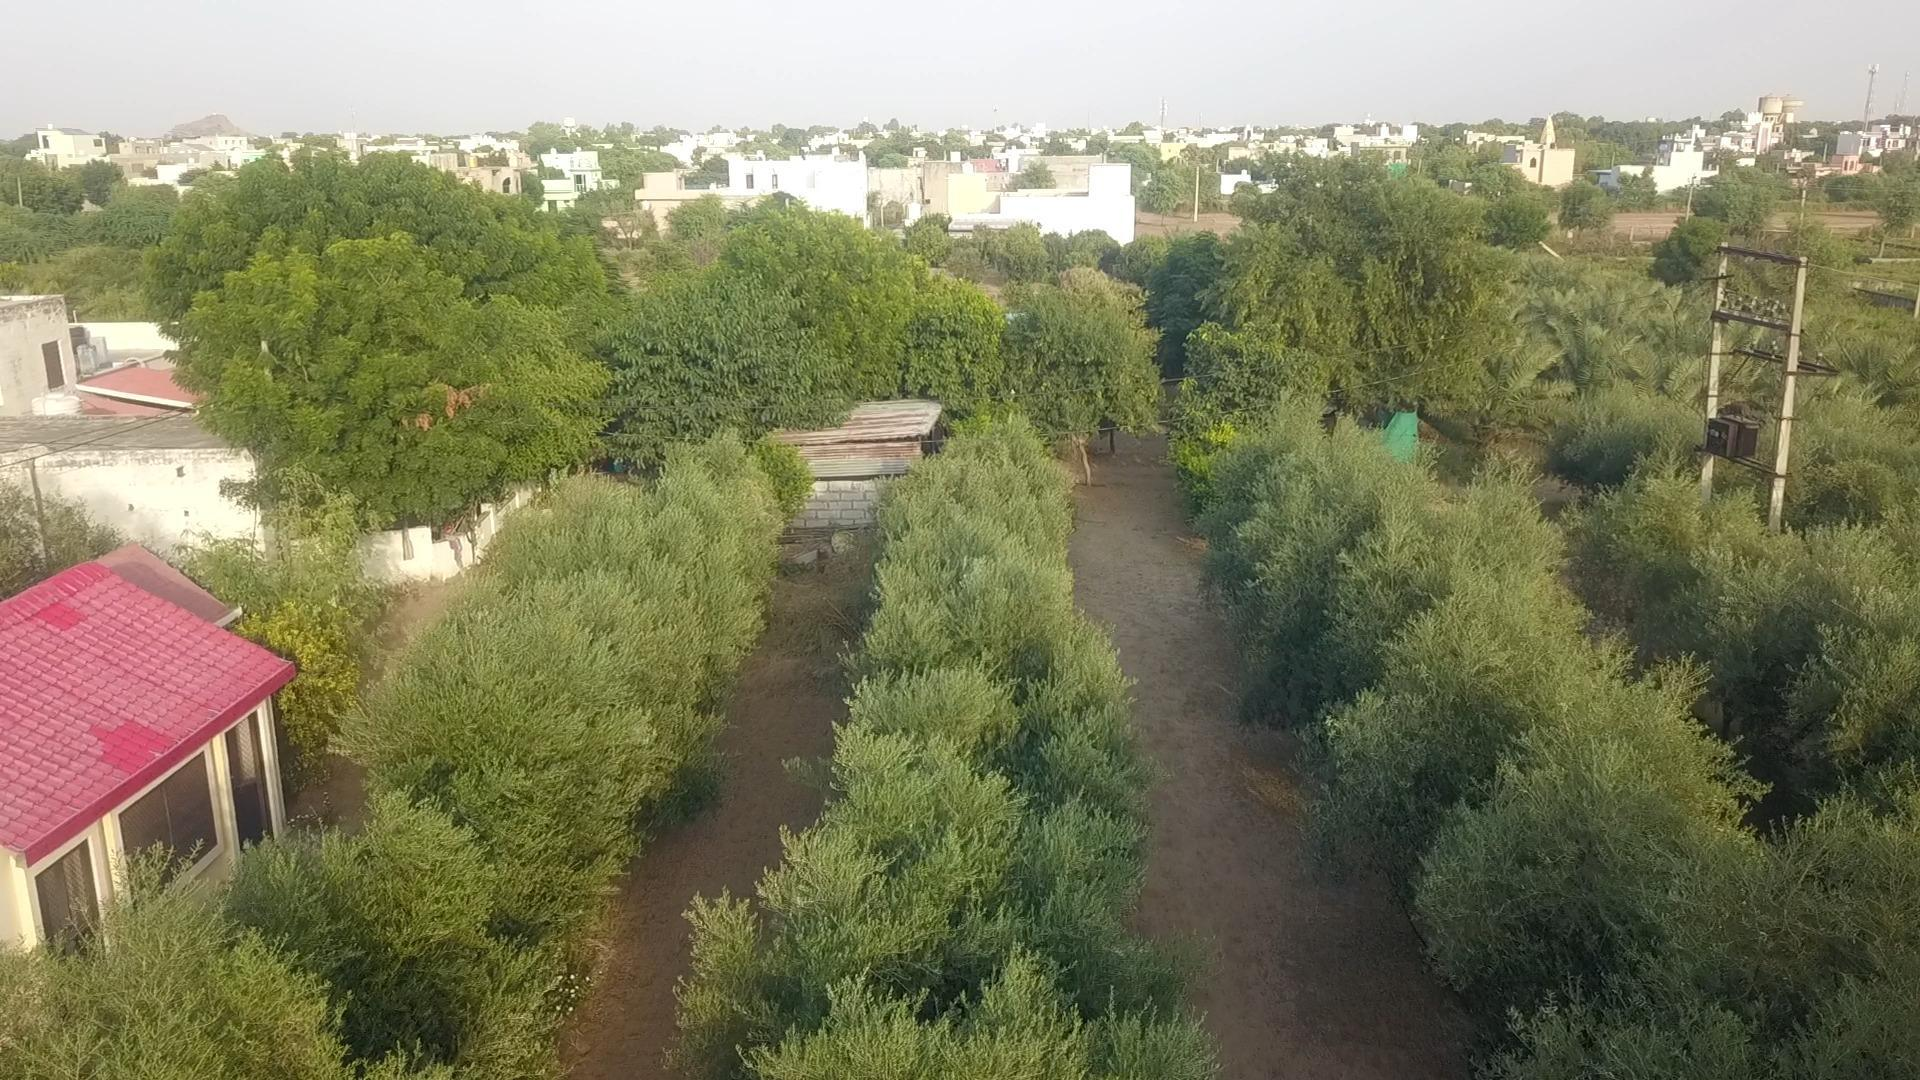canopy: (0, 436, 781, 1079), (1193, 400, 1919, 1079), (669, 422, 1215, 1079)
road: (1069, 440, 1462, 1079), (566, 558, 866, 1079)
